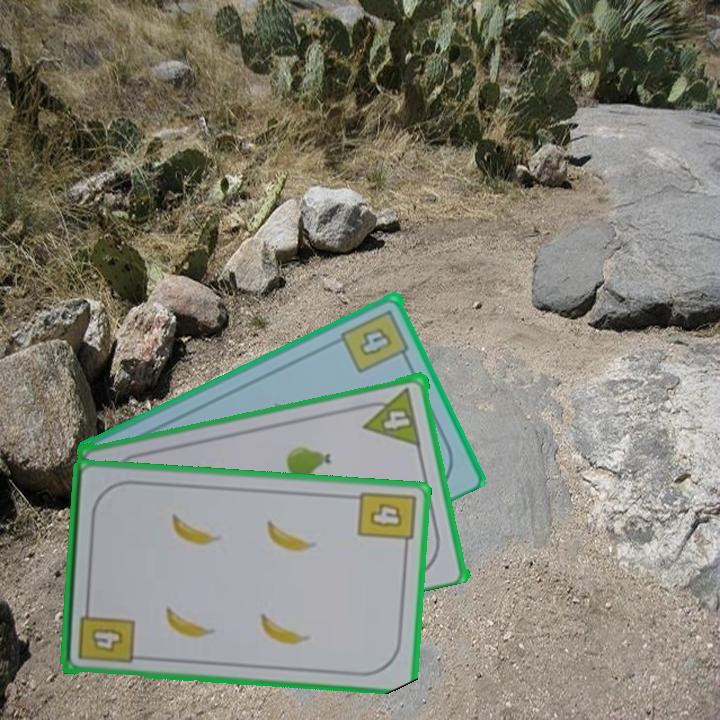4b: (338, 305, 413, 375), (354, 487, 418, 554), (74, 600, 137, 666)
4p: (363, 402, 420, 448)
